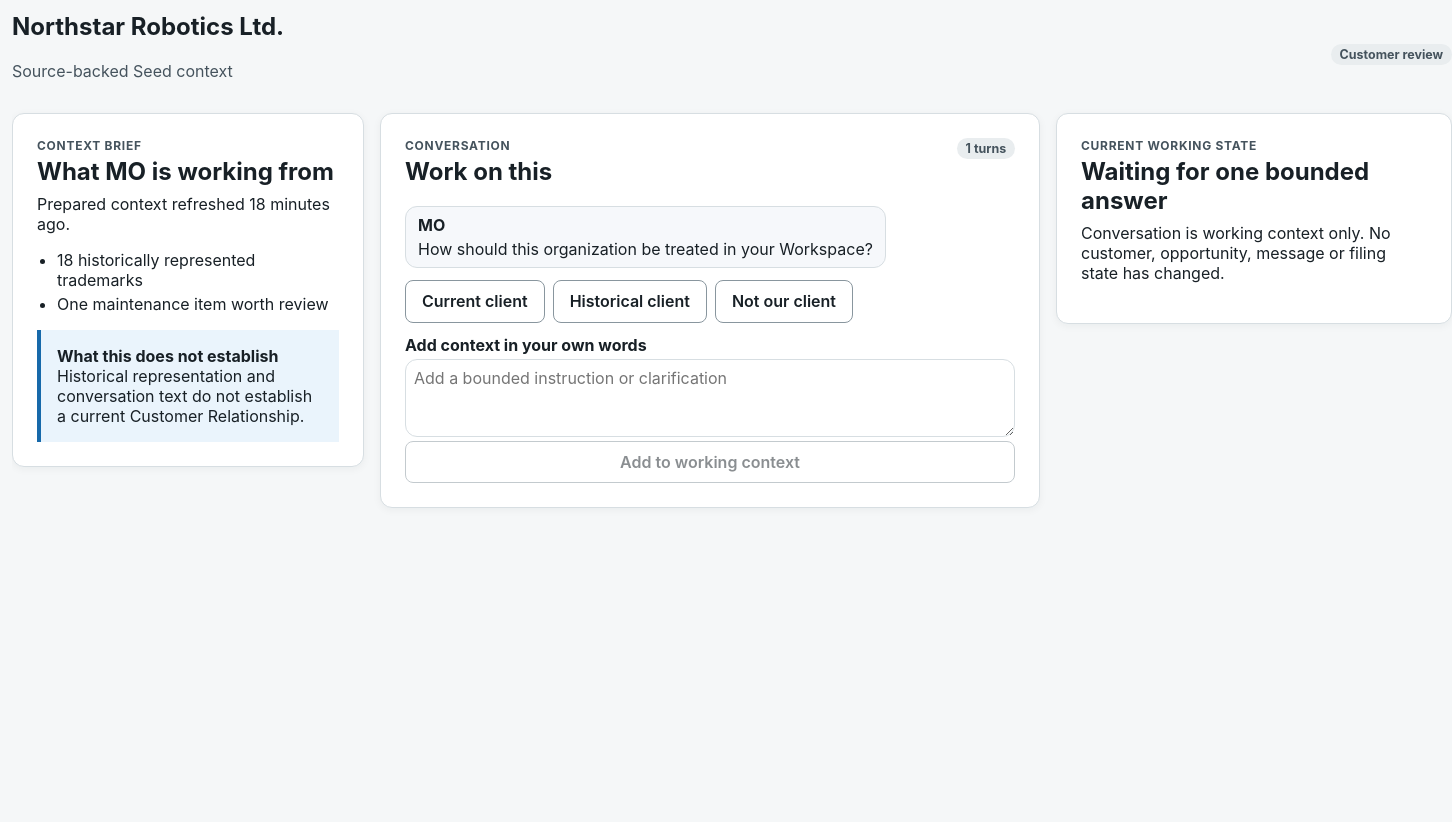
Scenario: SeedContextualWorkbench › keeps Seed customer review as a working proposal until the structured review owns the change
Click the button "Current client" at point(475, 301), box [405, 280, 545, 323]
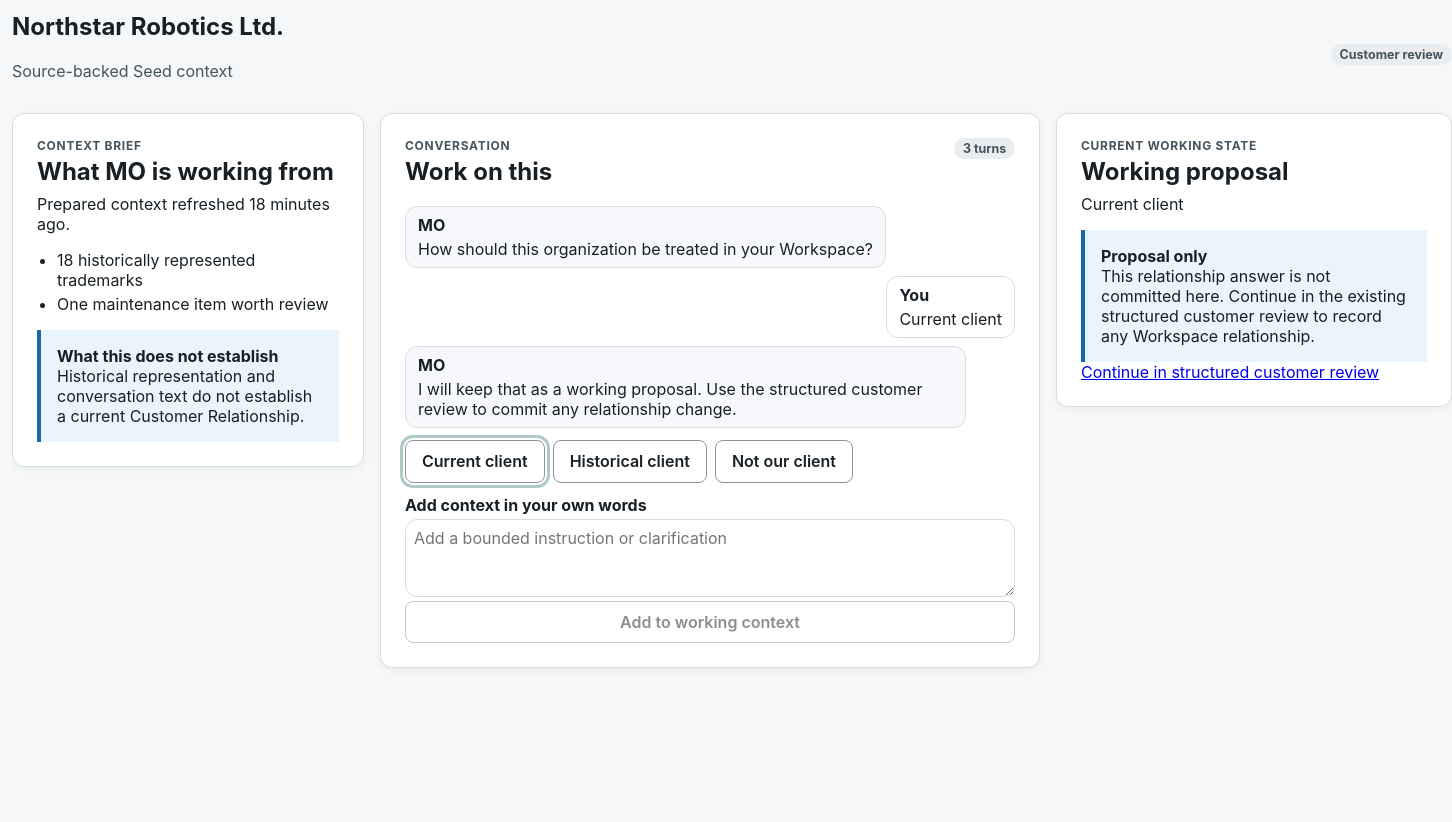
Now the heading "Working proposal" is shown, box [1081, 157, 1289, 186]
Now the text "Current client" below "turns" is shown, box [899, 309, 1002, 329]
Now the text "not committed here" is shown, box [1101, 266, 1406, 346]
